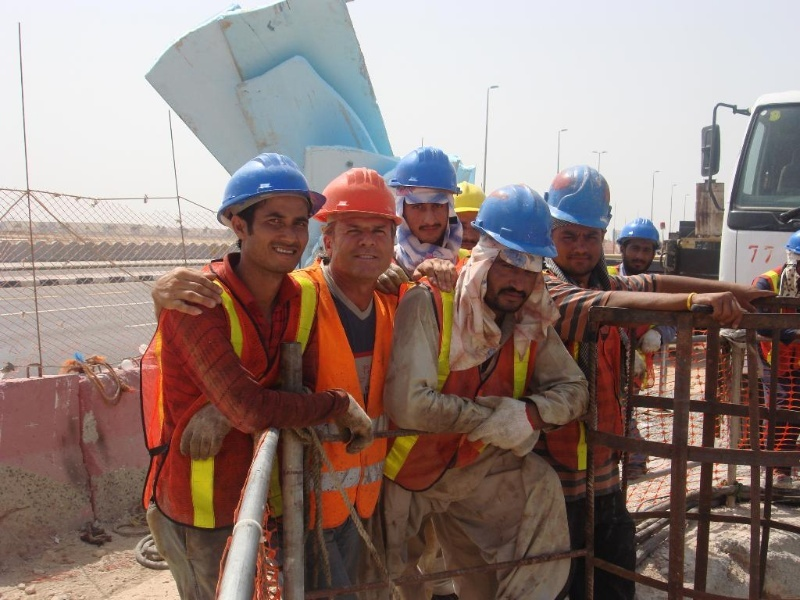baret: (218, 153, 326, 228), (472, 186, 557, 263), (316, 168, 404, 230), (542, 168, 615, 235), (387, 149, 464, 195), (617, 216, 664, 249)
